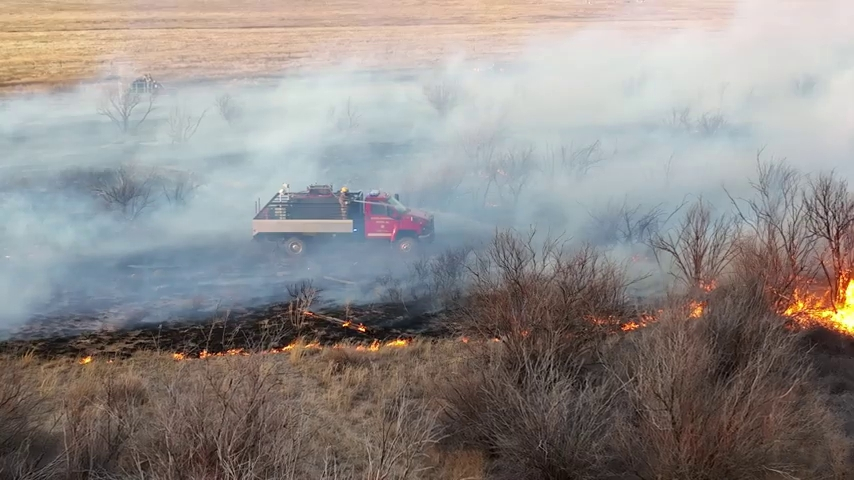forest_fire: (782, 280, 853, 336), (328, 338, 412, 351), (172, 348, 249, 359), (261, 341, 325, 353), (621, 315, 655, 330), (689, 301, 705, 317), (77, 356, 93, 363)
